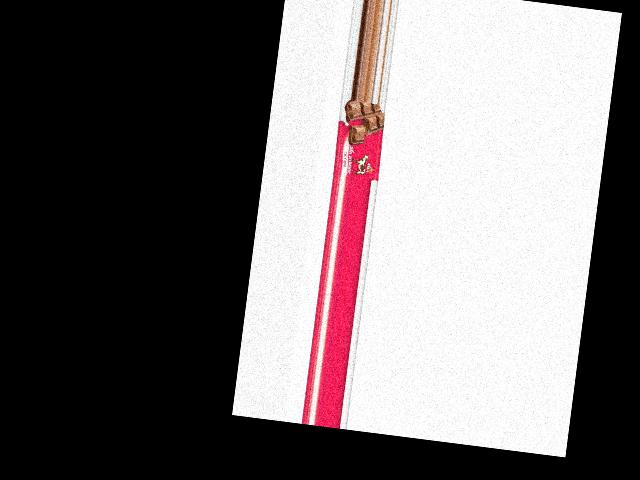chocolate: (332, 99, 387, 182)
